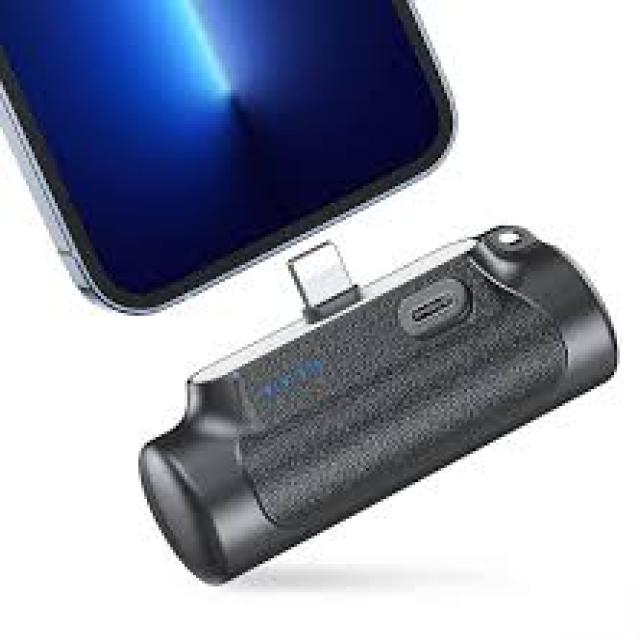portable-charger: (137, 215, 621, 590)
